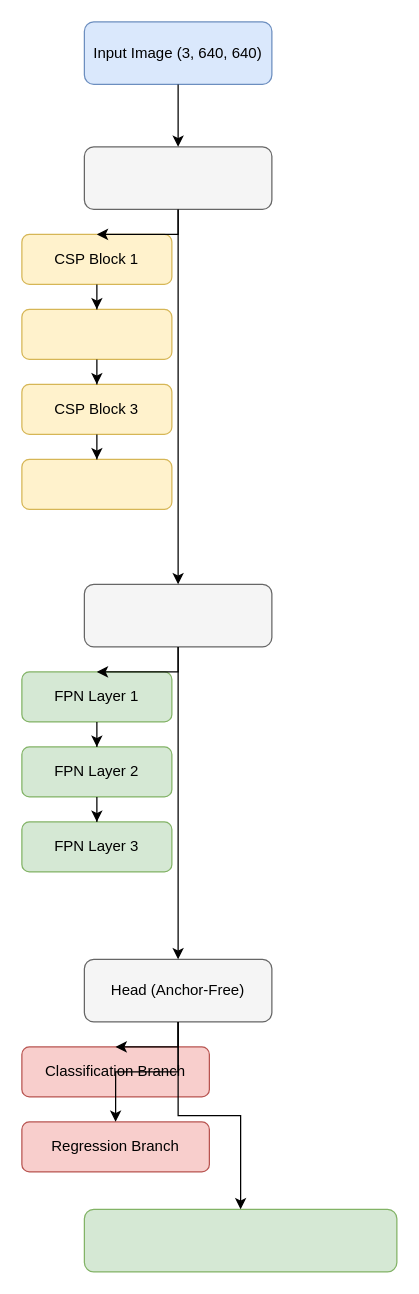
Image size: 419x1294. Some labels were removed from this diagram. Here are the shapes that lost their labels. From the top down, the box of each, then its label:
(83, 146, 272, 209): Backbone (CSPDarknet53)
(21, 308, 172, 359): CSP Block 2
(21, 458, 172, 509): SPPF Module
(83, 583, 272, 647): Neck (PA-FPN)
(83, 1208, 397, 1272): Output: Bounding Boxes, Class Labels, Confidence Scores
